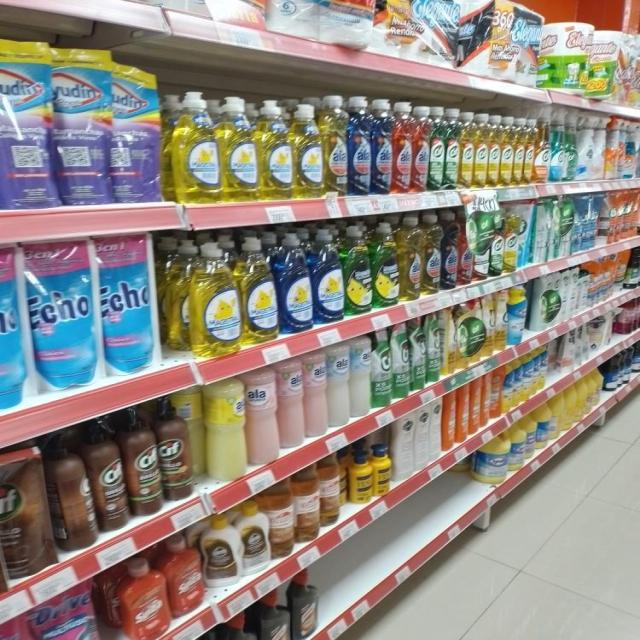ala_conc_amarillo: (323, 94, 348, 197), (400, 216, 422, 300), (422, 213, 442, 296)
ala_conc_azul: (348, 96, 371, 196), (373, 98, 392, 196), (442, 210, 458, 290)
ala_conc_rojo: (393, 101, 412, 195), (412, 104, 428, 193), (459, 212, 473, 286)
ala_crem_amarillo: (205, 376, 246, 482)
ala_crem_blanco: (328, 342, 350, 428), (350, 337, 371, 419)
ala_crem_rosado: (247, 365, 278, 466), (278, 355, 304, 449), (304, 349, 327, 438)
cif_conc_bot_amarilla: (460, 111, 474, 189), (474, 112, 488, 188), (488, 114, 500, 188), (536, 117, 549, 184), (501, 116, 513, 187), (524, 118, 536, 184), (514, 117, 524, 186)
cif_conc_botella_verde: (445, 108, 460, 190), (430, 107, 444, 192), (492, 208, 504, 276)
magistral_con_amarillo: (171, 90, 220, 205), (192, 240, 239, 358), (221, 95, 258, 203), (240, 236, 276, 344), (258, 98, 292, 202), (294, 100, 323, 199)
magistral_con_azul: (278, 232, 312, 334)
